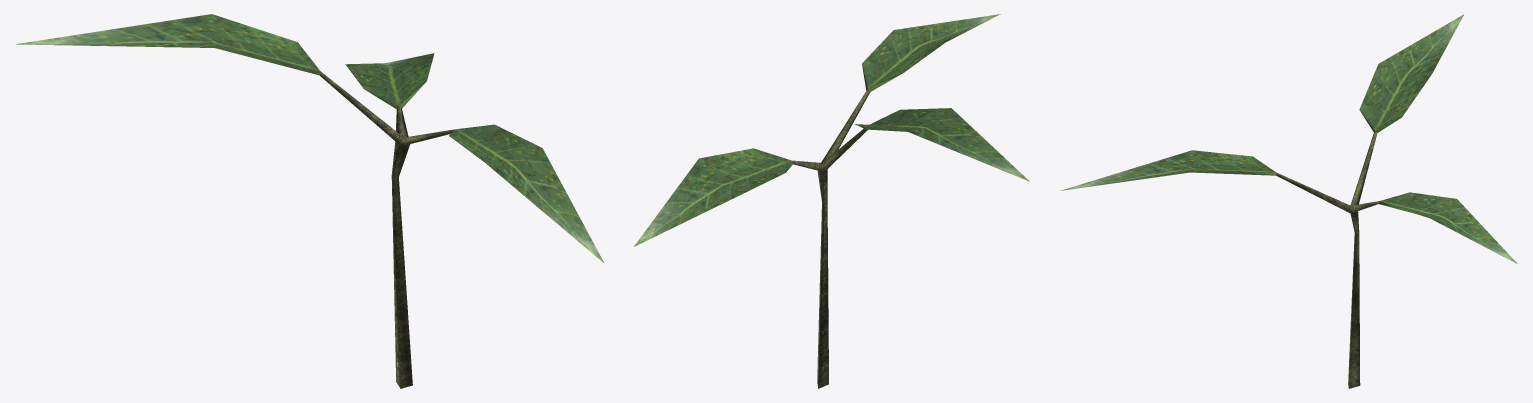
The model's file is leaf_smallflora_a1_l1.fbx.
3 renders of one model, left to right at view 1: azimuth 30°, elevation 25°; view 2: azimuth 150°, elevation 25°; view 3: azimuth 270°, elevation 25°, orthographic. The views are drawn at different scales.
Visible parts, largest first — view 1: mesh_node; view 2: mesh_node; view 3: mesh_node.
Boxes of the visible parts, bbox=[...] form: mesh_node: bbox=[16, 14, 604, 388]; mesh_node: bbox=[634, 14, 1029, 388]; mesh_node: bbox=[1060, 14, 1517, 388].
Size of the model in its own units: 1.41 by 1.2 by 1.89.
Materials: 2 (2 with a texture image).
